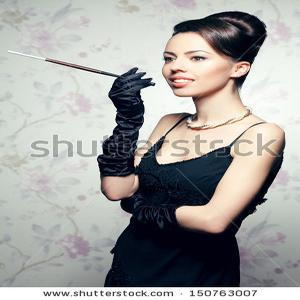cigarette: (6, 46, 161, 90)
